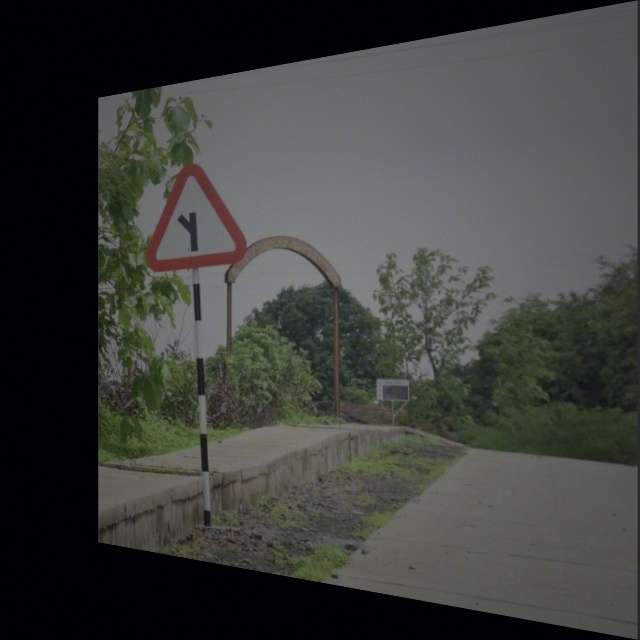Y_Intersection: (153, 159, 245, 266)
